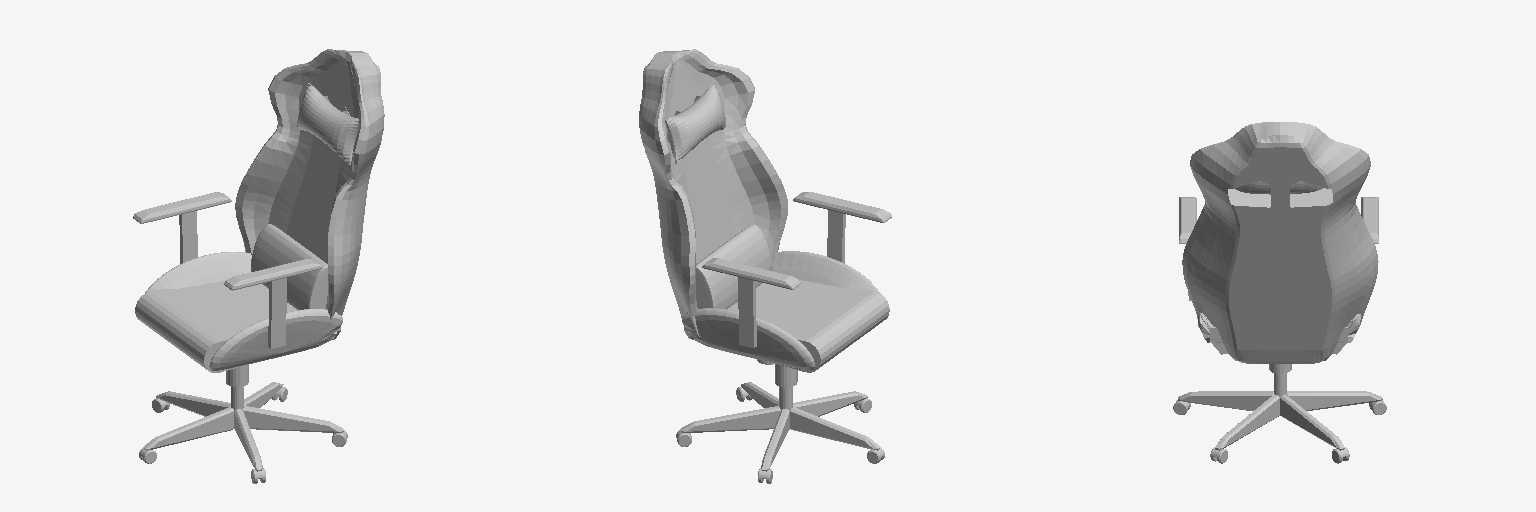
3 renders of one model, left to right at view 1: azimuth 30°, elevation 25°; view 2: azimuth 150°, elevation 25°; view 3: azimuth 270°, elevation 25°, orthographic.
Parts seen in each view (by area): view 1: Cadeira; view 2: Cadeira; view 3: Cadeira.
Boxes of the visible parts, x1,y1,x2,y2 form: Cadeira: [133, 49, 384, 483]; Cadeira: [639, 49, 891, 483]; Cadeira: [1173, 122, 1386, 463].
Bounding box in the file's own units: 0.4233 × 0.6355 × 0.3422.